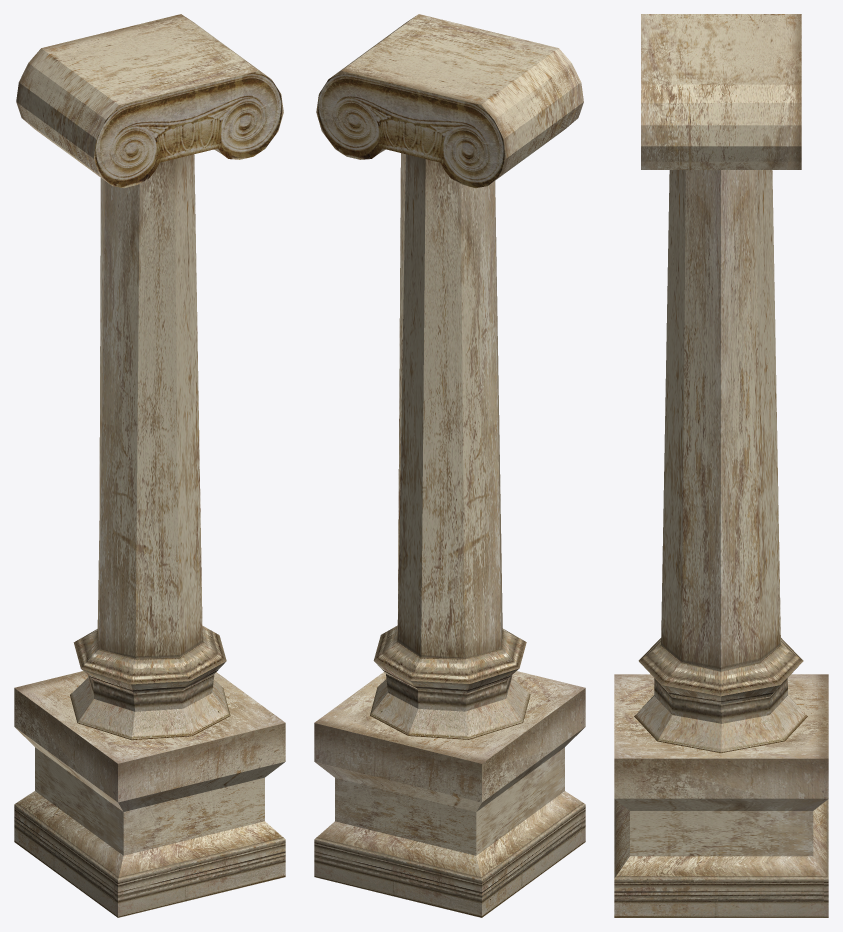
File: svspartapillar8.dae
The picture shows the model from 3 angles, left to right: view 1: azimuth 30°, elevation 25°; view 2: azimuth 150°, elevation 25°; view 3: azimuth 270°, elevation 25°; orthographic projection. The views are drawn at different scales.
Parts seen in each view (by area): view 1: cylinder4_sep45-0; view 2: cylinder4_sep45-0; view 3: cylinder4_sep45-0.
Part boxes in pixels (x1=…): cylinder4_sep45-0: x1=14, y1=14, x2=285, y2=917; cylinder4_sep45-0: x1=314, y1=14, x2=585, y2=917; cylinder4_sep45-0: x1=614, y1=14, x2=828, y2=917.
Size of the model in its own units: 67.15 by 270 by 63.55.
